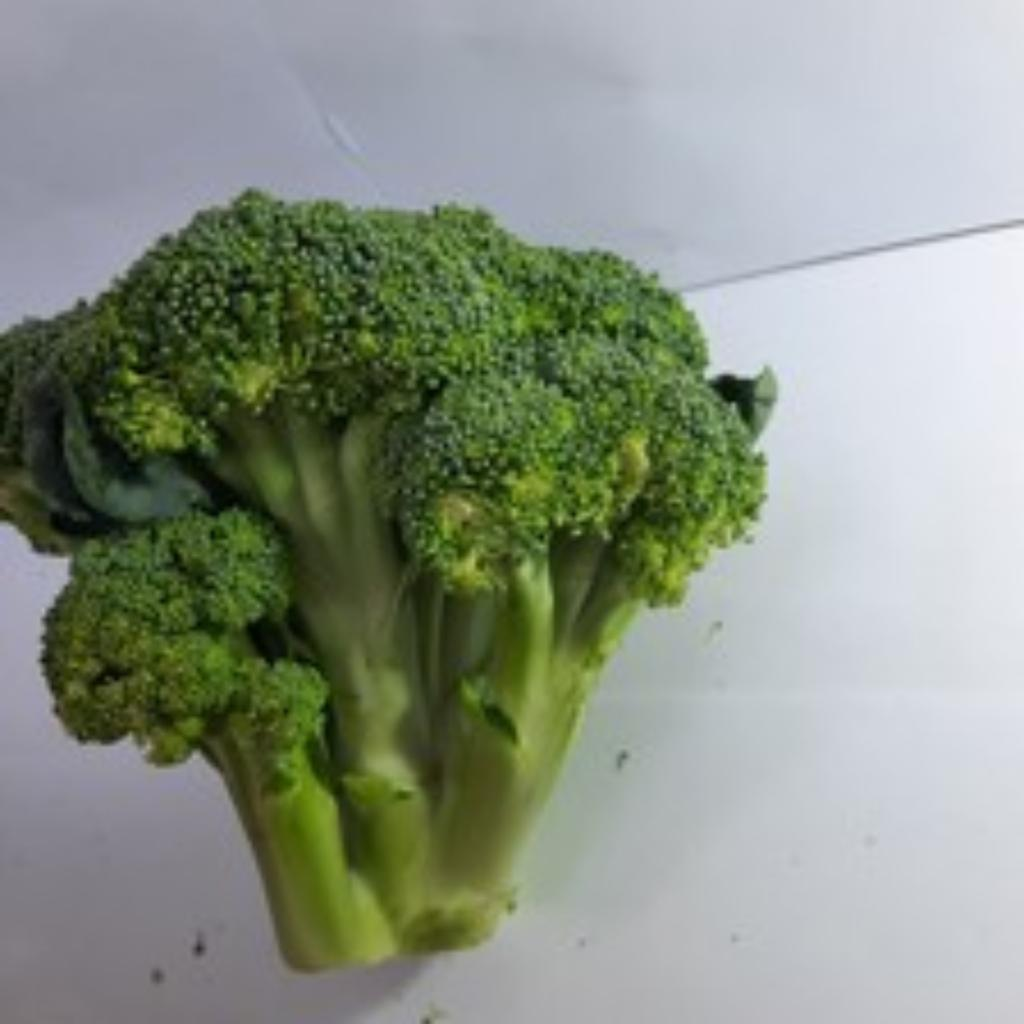Broccoli: (0, 192, 776, 967), (0, 192, 774, 969)
